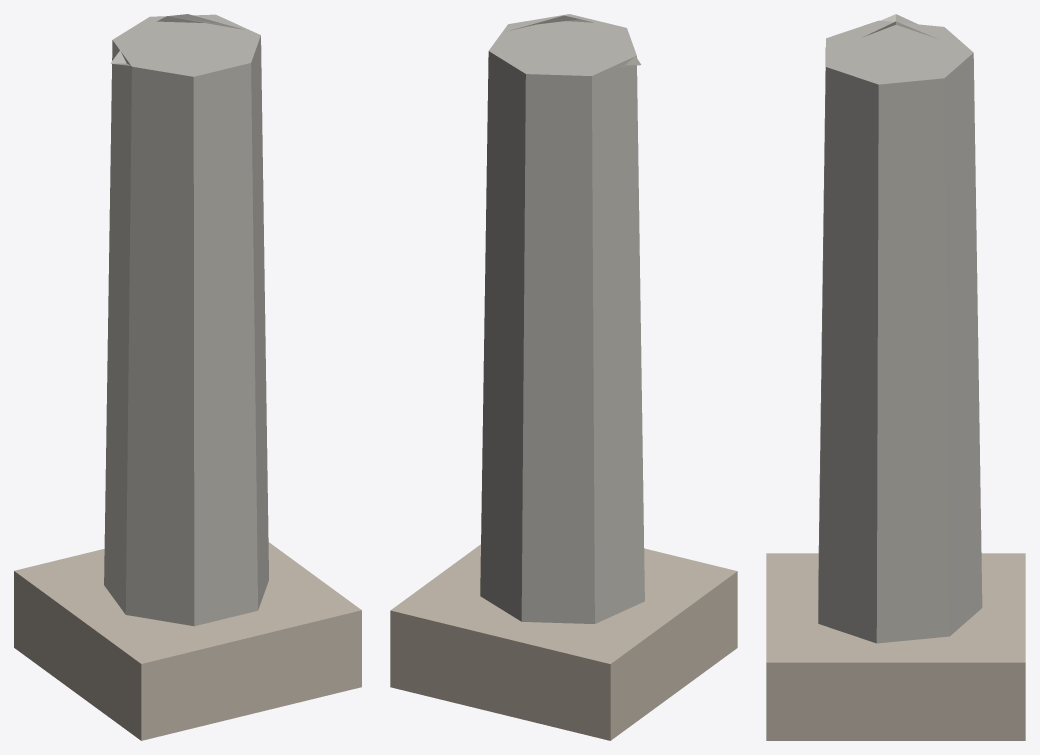
File: column_v36.glb
The picture shows the model from 3 angles, left to right: view 1: azimuth 30°, elevation 25°; view 2: azimuth 150°, elevation 25°; view 3: azimuth 270°, elevation 25°; orthographic projection.
Parts seen in each view (by area): view 1: lod0; view 2: lod0; view 3: lod0.
Part boxes in pixels (x1,y1,x2,y2): lod0: (14,14,361,740); lod0: (390,14,737,740); lod0: (766,14,1025,740).
Size of what is drawn, in the model's own units: 0.48 by 1.36 by 0.48.
